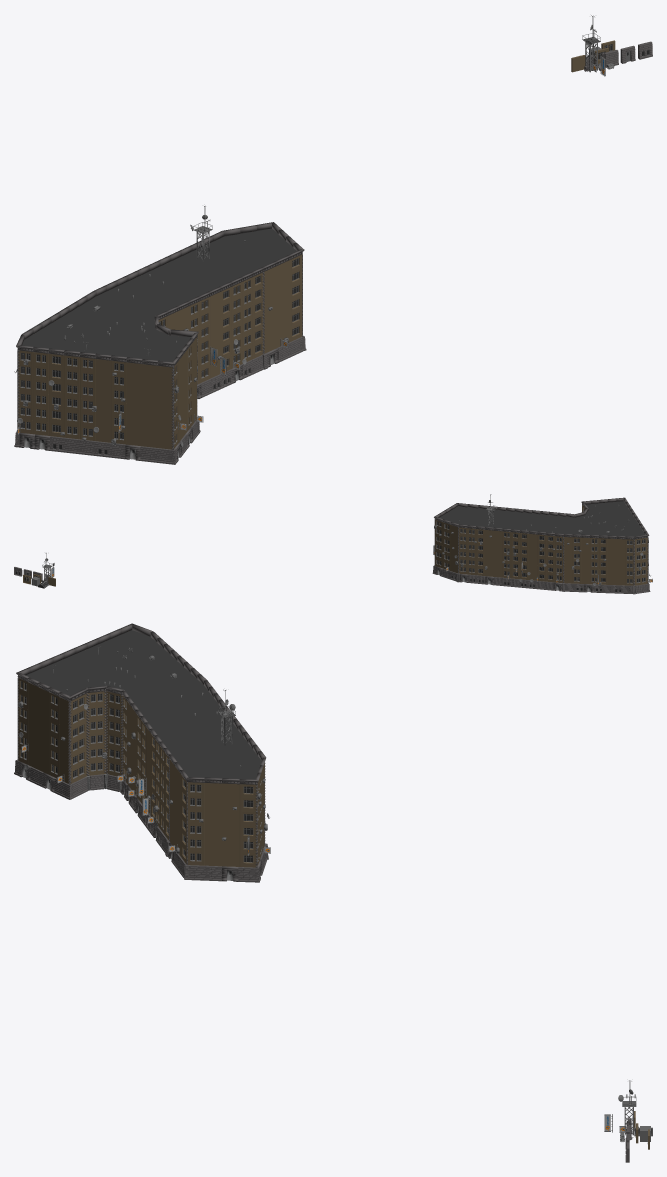
Rendered from random building.fbx.
3 views of the same model, one above another, from view 1: azimuth 30°, elevation 25°; view 2: azimuth 150°, elevation 25°; view 3: azimuth 270°, elevation 25° (orthographic). The views are drawn at different scales.
Visible parts, largest first — view 1: building_base.011; view 2: building_base.011; view 3: building_base.011.
Part boxes in pixels (left/top/right/bottom): building_base.011: left=14, top=206, right=306, bottom=464; building_base.011: left=432, top=494, right=652, bottom=594; building_base.011: left=14, top=623, right=270, bottom=882.
Size of the model in its own units: 20290 by 3404 by 12603.
